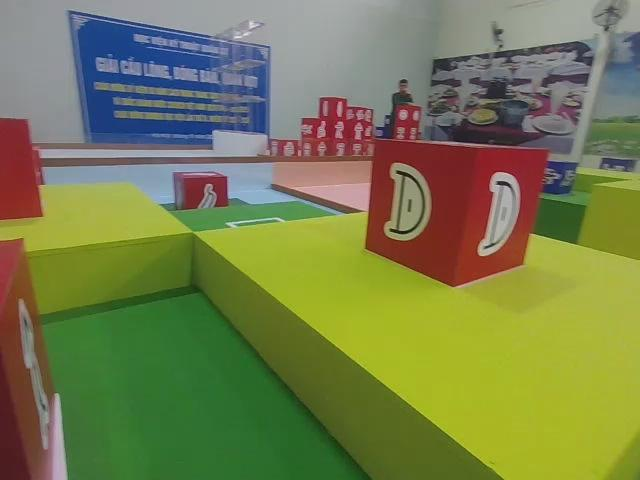R2 Real: (363, 134, 549, 293), (171, 169, 230, 212)
